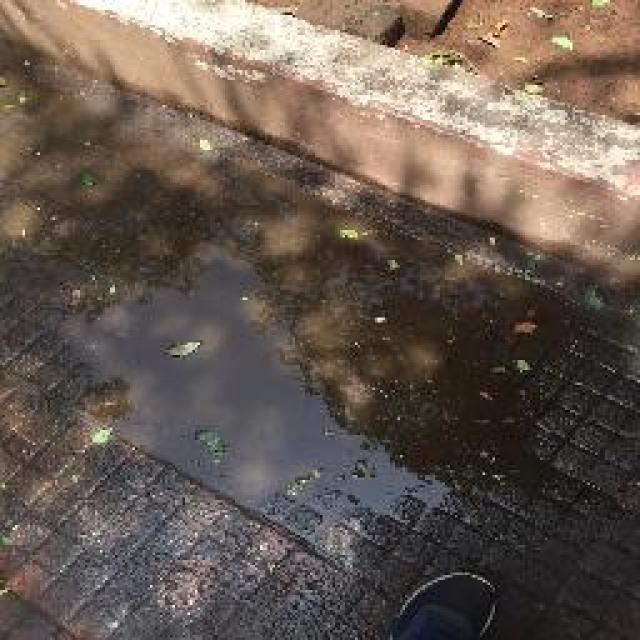puddle: (84, 229, 549, 507)
